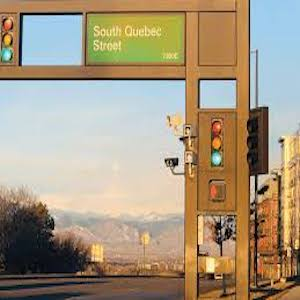red: (208, 183, 222, 202)
